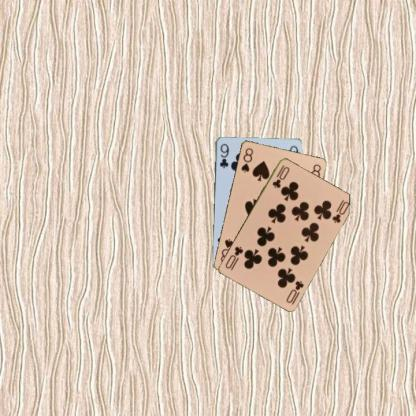10c: (284, 278, 306, 304), (270, 162, 290, 190)
8s: (238, 144, 254, 173)
9c: (218, 140, 230, 170)
